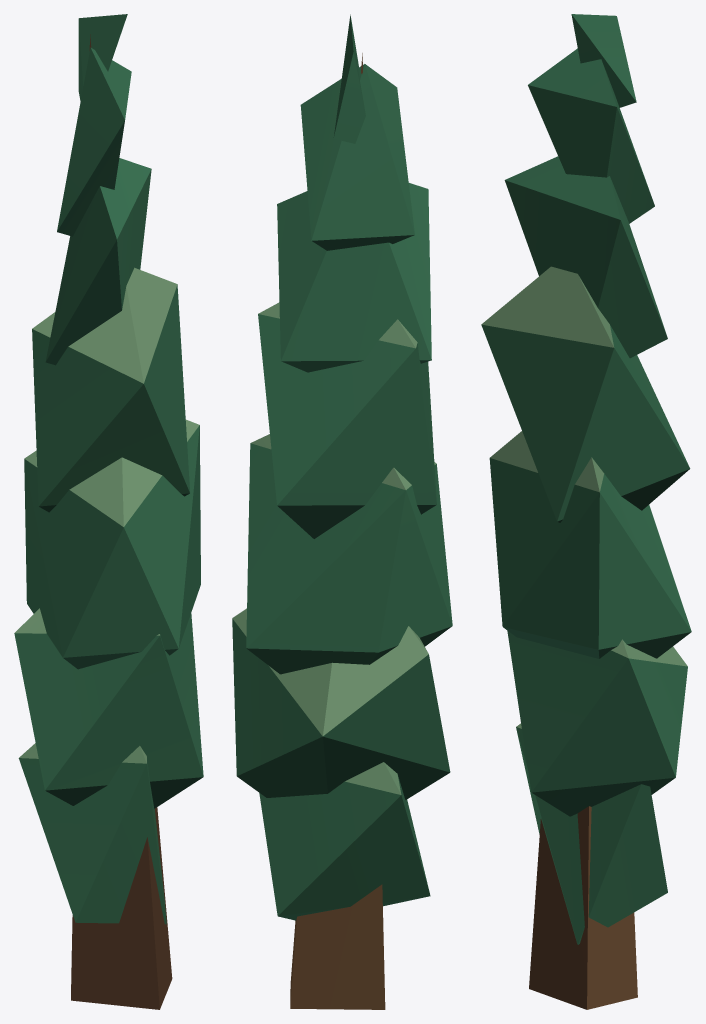
The picture shows the model from 3 angles, left to right: view 1: azimuth 30°, elevation 25°; view 2: azimuth 150°, elevation 25°; view 3: azimuth 270°, elevation 25°; orthographic projection.
Parts seen in each view (by area): view 1: WK_Tree_Cypress_AncientDark_LOD2_Compact; view 2: WK_Tree_Cypress_AncientDark_LOD2_Compact; view 3: WK_Tree_Cypress_AncientDark_LOD2_Compact.
Part boxes in pixels (box(x1,y1,x2,y2)): WK_Tree_Cypress_AncientDark_LOD2_Compact: box(14, 14, 203, 1009); WK_Tree_Cypress_AncientDark_LOD2_Compact: box(232, 14, 452, 1009); WK_Tree_Cypress_AncientDark_LOD2_Compact: box(481, 14, 691, 1009).
Size of the model in its own units: 1.39 by 7.03 by 1.38.
